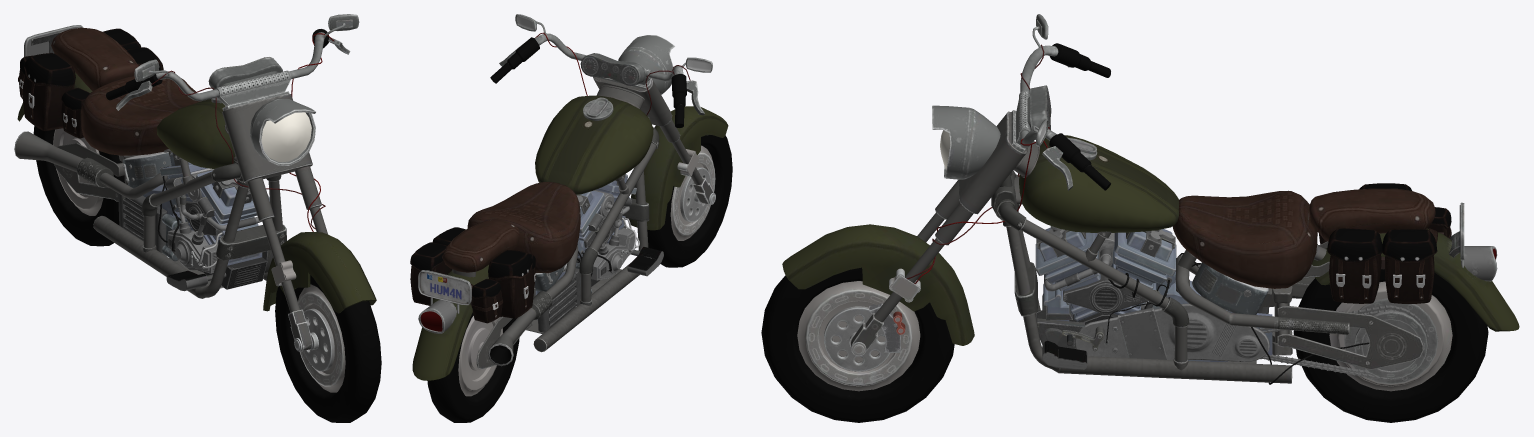
Rendered from fat-boy-cruiser.glb.
3 views of the same model, side by side, from view 1: azimuth 30°, elevation 25°; view 2: azimuth 150°, elevation 25°; view 3: azimuth 270°, elevation 25° (orthographic). The views are drawn at different scales.
Parts seen in each view (by area): view 1: chassis_body, steering_upper_mesh, front_wheel_mesh, rear_wheel_mesh, saddlebag_right_body, bag_r_lid_mesh, lamp_headlight, bag_l_lid_mesh; view 2: chassis_body, steering_upper_mesh, front_wheel_mesh, rear_wheel_mesh, saddlebag_right_body, bag_r_lid_mesh, bag_l_lid_mesh, saddlebag_left_body; view 3: chassis_body, steering_upper_mesh, front_wheel_mesh, rear_wheel_mesh, saddlebag_left_body, bag_l_lid_mesh.
Boxes of the visible parts, <box> form: chassis_body: <box>14,25,286,298</box>; steering_upper_mesh: <box>106,14,376,351</box>; front_wheel_mesh: <box>275,275,381,422</box>; rear_wheel_mesh: <box>33,126,124,246</box>; saddlebag_right_body: <box>18,68,83,138</box>; bag_r_lid_mesh: <box>20,53,89,110</box>; lamp_headlight: <box>261,112,311,161</box>; bag_l_lid_mesh: <box>103,28,163,70</box>; chassis_body: <box>412,95,663,380</box>; steering_upper_mesh: <box>490,14,728,230</box>; front_wheel_mesh: <box>647,135,732,267</box>; rear_wheel_mesh: <box>427,312,519,422</box>; saddlebag_right_body: <box>470,266,535,323</box>; bag_r_lid_mesh: <box>472,250,535,298</box>; bag_l_lid_mesh: <box>410,227,465,271</box>; saddlebag_left_body: <box>410,261,473,305</box>; chassis_body: <box>997,135,1519,384</box>; steering_upper_mesh: <box>782,14,1110,351</box>; front_wheel_mesh: <box>761,267,954,422</box>; rear_wheel_mesh: <box>1293,269,1488,422</box>; saddlebag_left_body: <box>1329,228,1437,303</box>; bag_l_lid_mesh: <box>1327,228,1437,262</box>.
Bounding box in the file's own units: 0.9482 × 1.23 × 2.41.
8 materials, 7 textured.
